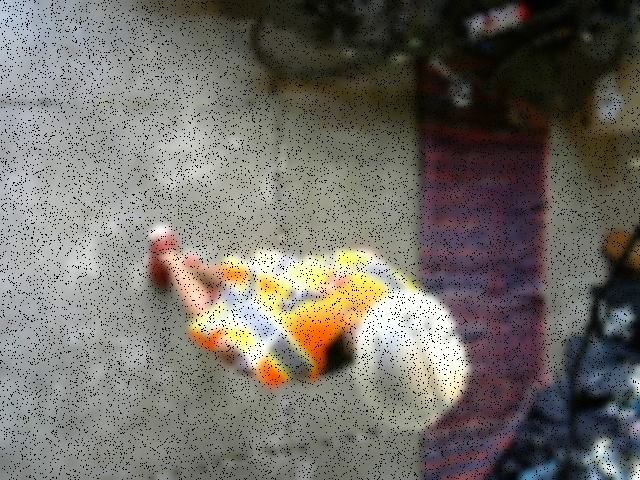eight: (405, 305, 457, 341)
